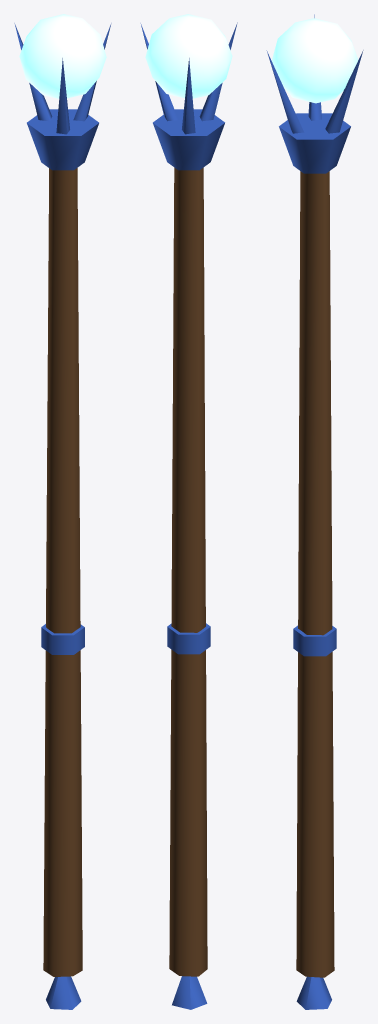
Rendered from weapon_staff_t2.glb.
3 views of the same model, side by side, from view 1: azimuth 30°, elevation 25°; view 2: azimuth 150°, elevation 25°; view 3: azimuth 330°, elevation 25° (orthographic).
Visible parts, largest first — view 1: item_wood2, item_trim2, staffOrb_staffOrb2; view 2: item_wood2, item_trim2, staffOrb_staffOrb2; view 3: item_wood2, item_trim2, staffOrb_staffOrb2.
Boxes of the visible parts, left/top/right/bottom form: item_wood2: left=43, top=168, right=82, bottom=976; item_trim2: left=14, top=23, right=111, bottom=1009; staffOrb_staffOrb2: left=19, top=14, right=106, bottom=98; item_wood2: left=169, top=167, right=207, bottom=976; item_trim2: left=140, top=22, right=237, bottom=1009; staffOrb_staffOrb2: left=145, top=14, right=232, bottom=98; item_wood2: left=296, top=171, right=334, bottom=977; item_trim2: left=266, top=14, right=363, bottom=1009; staffOrb_staffOrb2: left=271, top=18, right=358, bottom=103.
Size of the model in its own units: 0.1374 by 1.5 by 0.1336.
